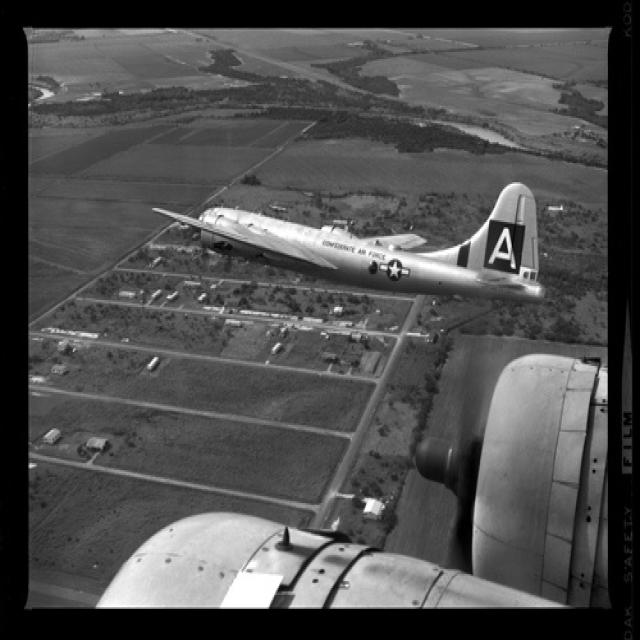aeroplane: (151, 183, 545, 306)
